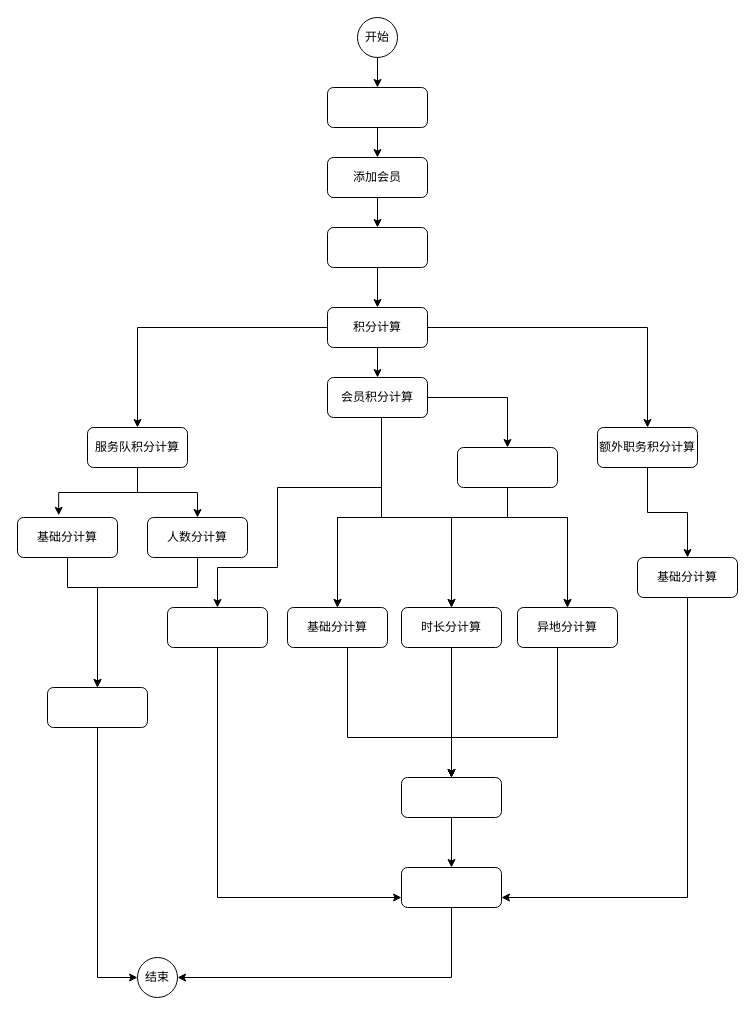
This 755x1015 diagram has some shape labels left out. Each missing label, with the centre of its shape:
"会员总分更新" belongs at point 451,887.
"保存数据" belongs at point 377,247.
"其他录入分计算" belongs at point 217,627.
"创建活动" belongs at point 377,107.
"服务队总分更新" belongs at point 97,707.
"线上参与分计算" belongs at point 451,797.
"额外角色积分计算" belongs at point 507,467.
